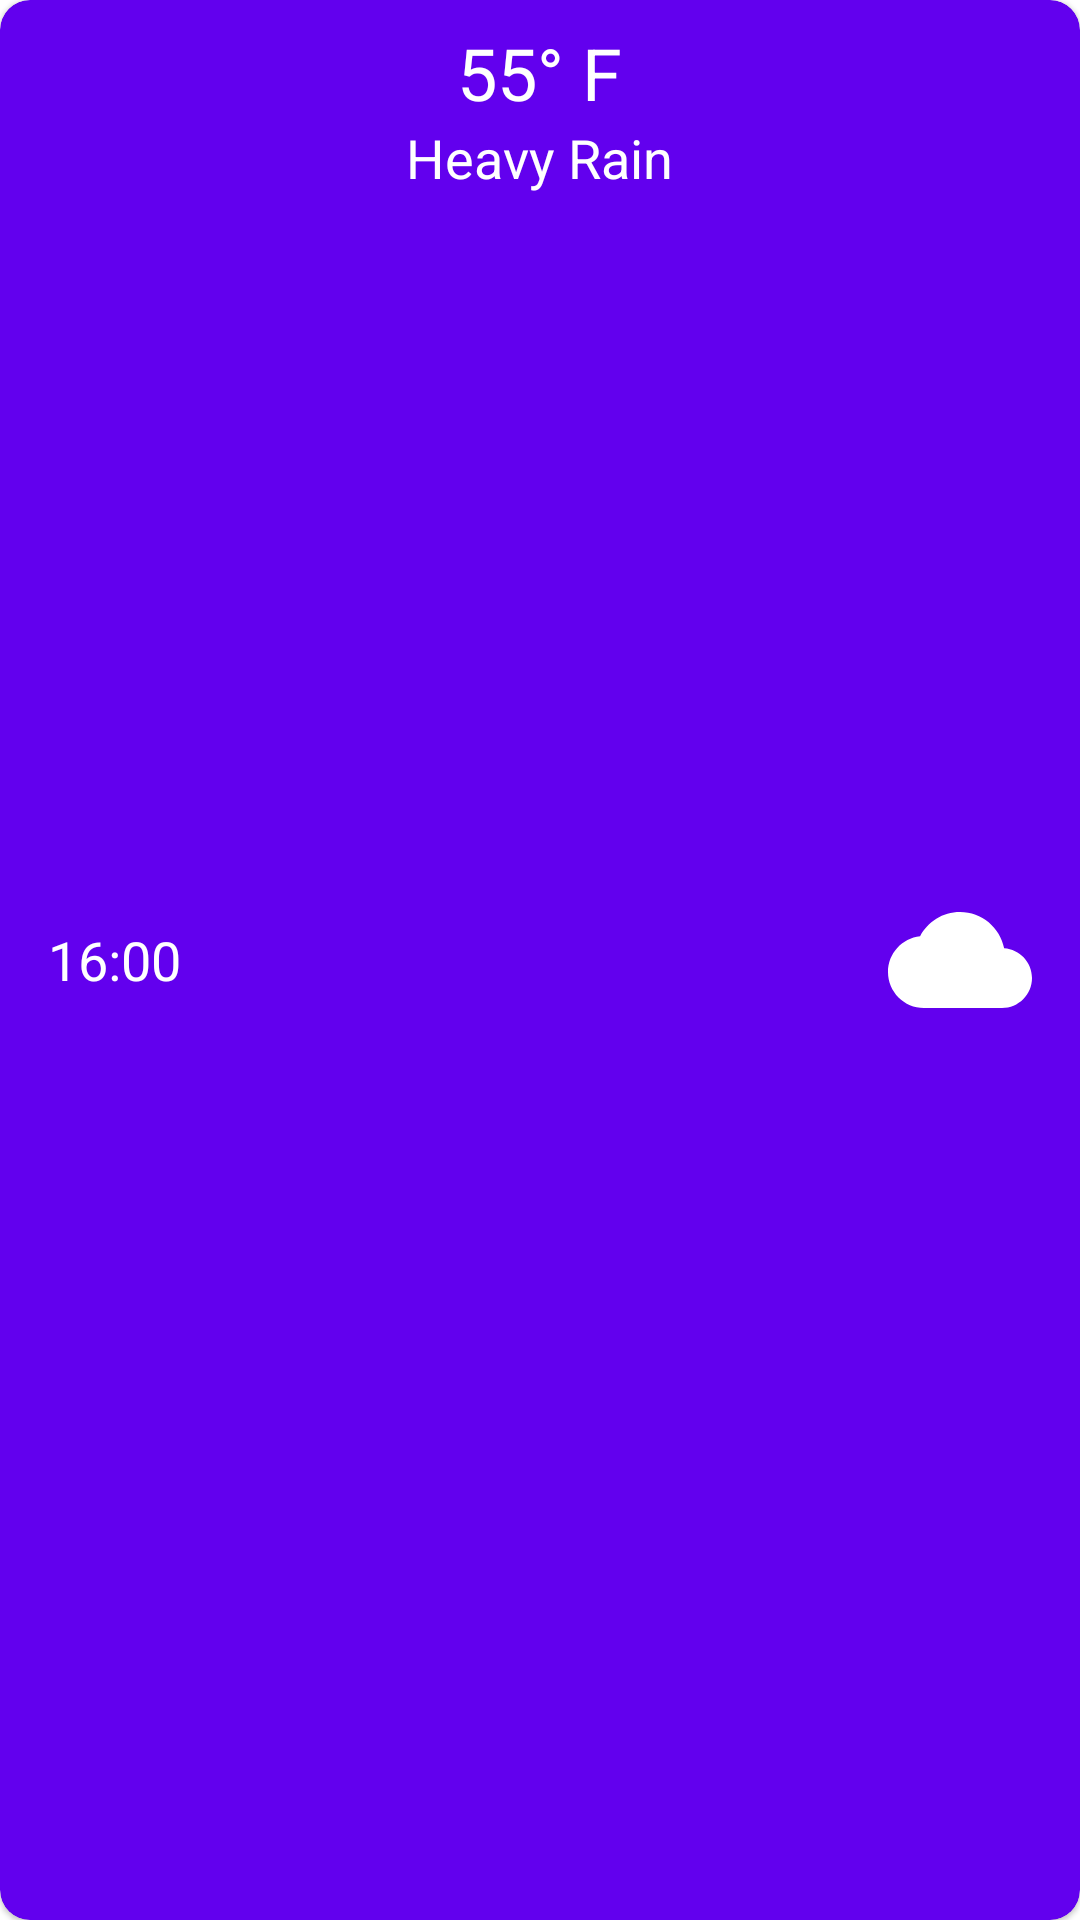

Named icons in this screenshot (1080px×1920px) and their centers, [x,y]:
cloudy: [960,960]
